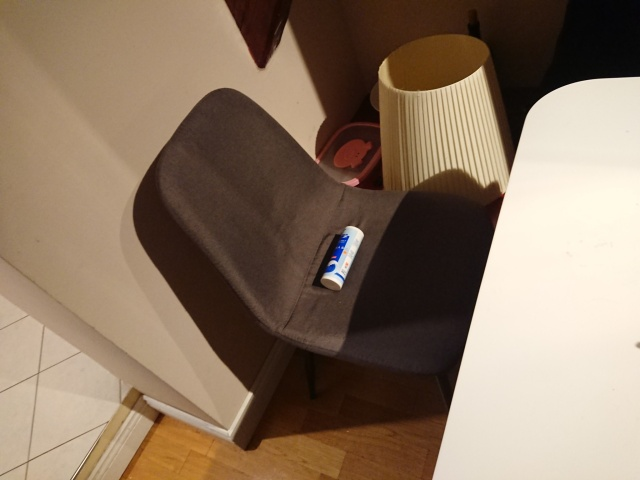Solana Pag Fine Sea Salt 250g: (316, 222, 367, 294)
